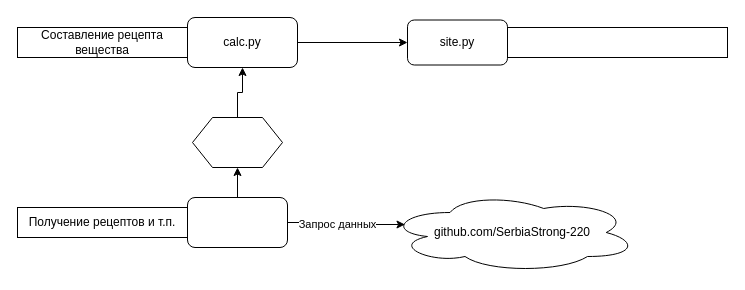
Image size: 745x290. Some labels were removed from this diagram. Each missing label, with the centre of its shape:
recipes.json: the point at 237,142
Отображение самого рецепта в виде компонентов: the point at 617,42
Парсер: the point at 237,222
